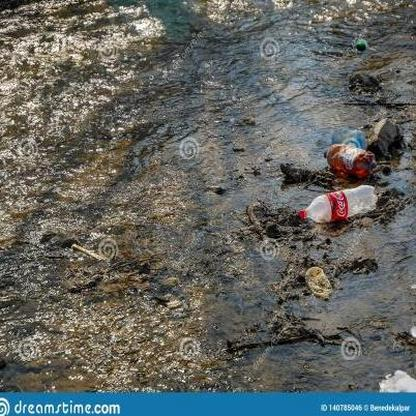plastic bottle: (297, 184, 378, 222), (323, 143, 376, 177)
